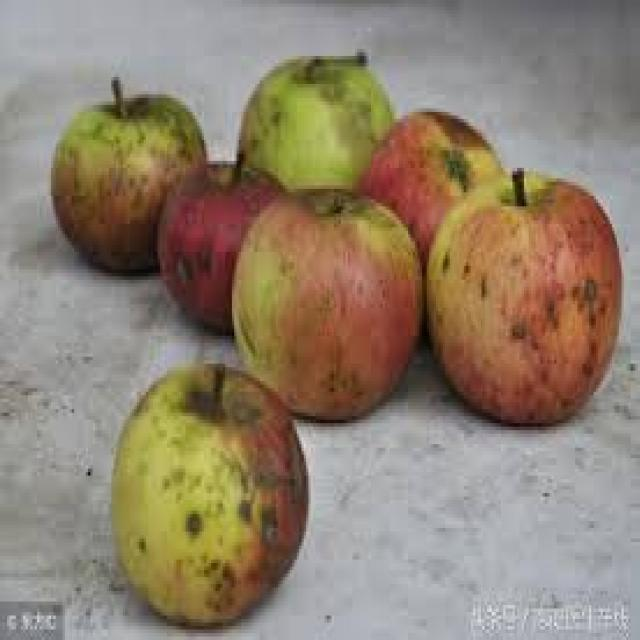organic waste: (420, 164, 621, 427), (109, 360, 306, 626), (227, 185, 422, 420), (49, 73, 204, 270), (362, 108, 498, 315), (156, 150, 288, 329), (239, 52, 394, 203)
